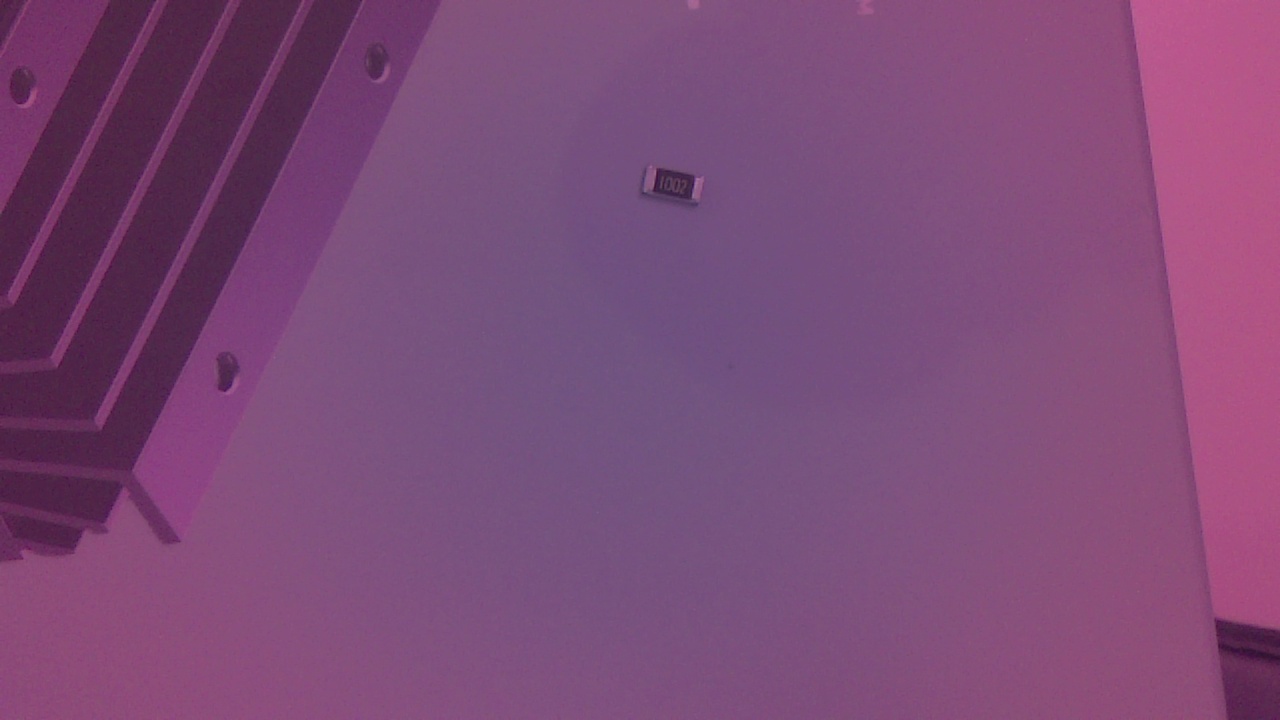Resistor: (642, 163, 715, 214)
